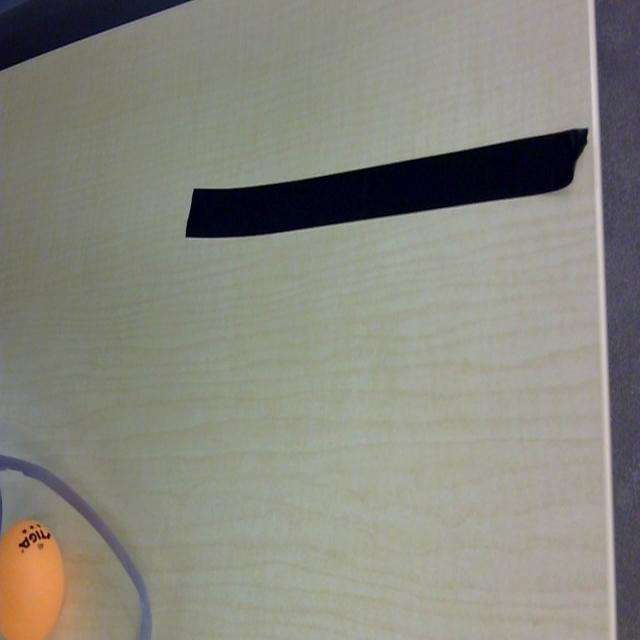tape: (184, 124, 590, 238)
